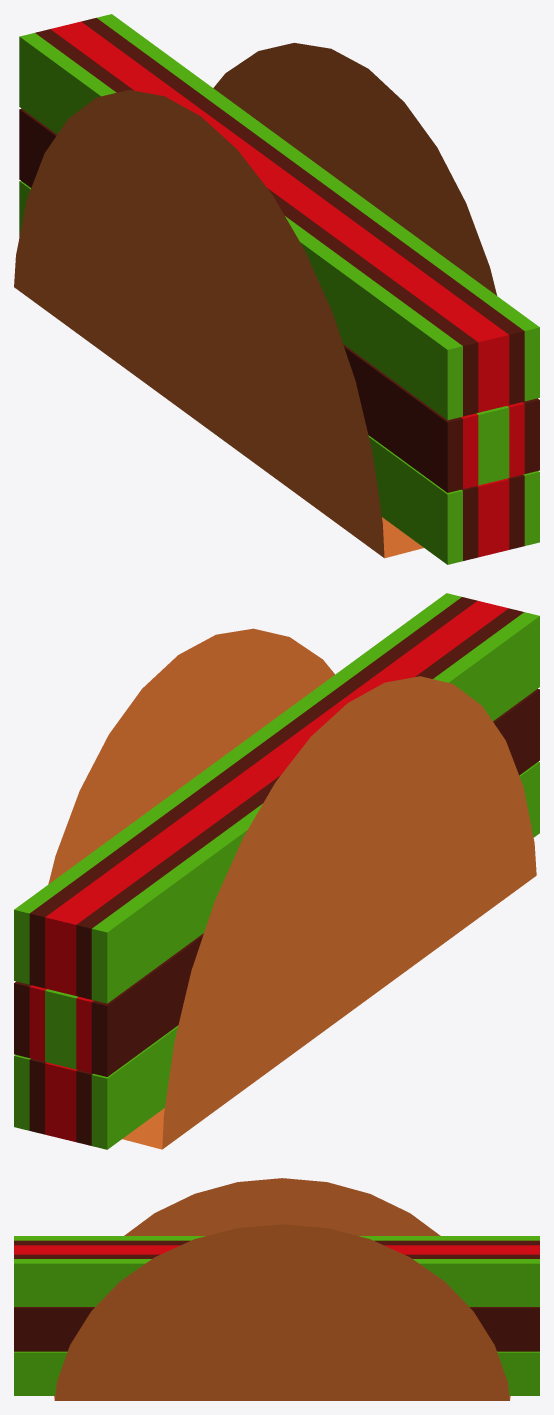
Rendered from taco.fbx.
3 renders of one model, top to bottom at view 1: azimuth 30°, elevation 25°; view 2: azimuth 150°, elevation 25°; view 3: azimuth 270°, elevation 25°, orthographic. The views are drawn at different scales.
Visible parts, largest first — view 1: Circle, Circle.002, Circle.001, Circle.003; view 2: Circle, Circle.002, Circle.001, Circle.003; view 3: Circle, Circle.002, Circle.001, Circle.003.
Part boxes in pixels (box(x1,y1,x2,y2)): Circle: box(14, 42, 497, 558); Circle.002: box(19, 14, 539, 420); Circle.001: box(19, 108, 539, 492); Circle.003: box(19, 181, 539, 564); Circle: box(48, 628, 536, 1149); Circle.002: box(14, 593, 539, 1003); Circle.001: box(14, 689, 539, 1076); Circle.003: box(14, 761, 539, 1149); Circle: box(54, 1178, 510, 1400); Circle.002: box(14, 1236, 539, 1306); Circle.001: box(14, 1307, 539, 1351); Circle.003: box(14, 1351, 539, 1395).
Size of the model in its own units: 52.28 by 92.2 by 229.
